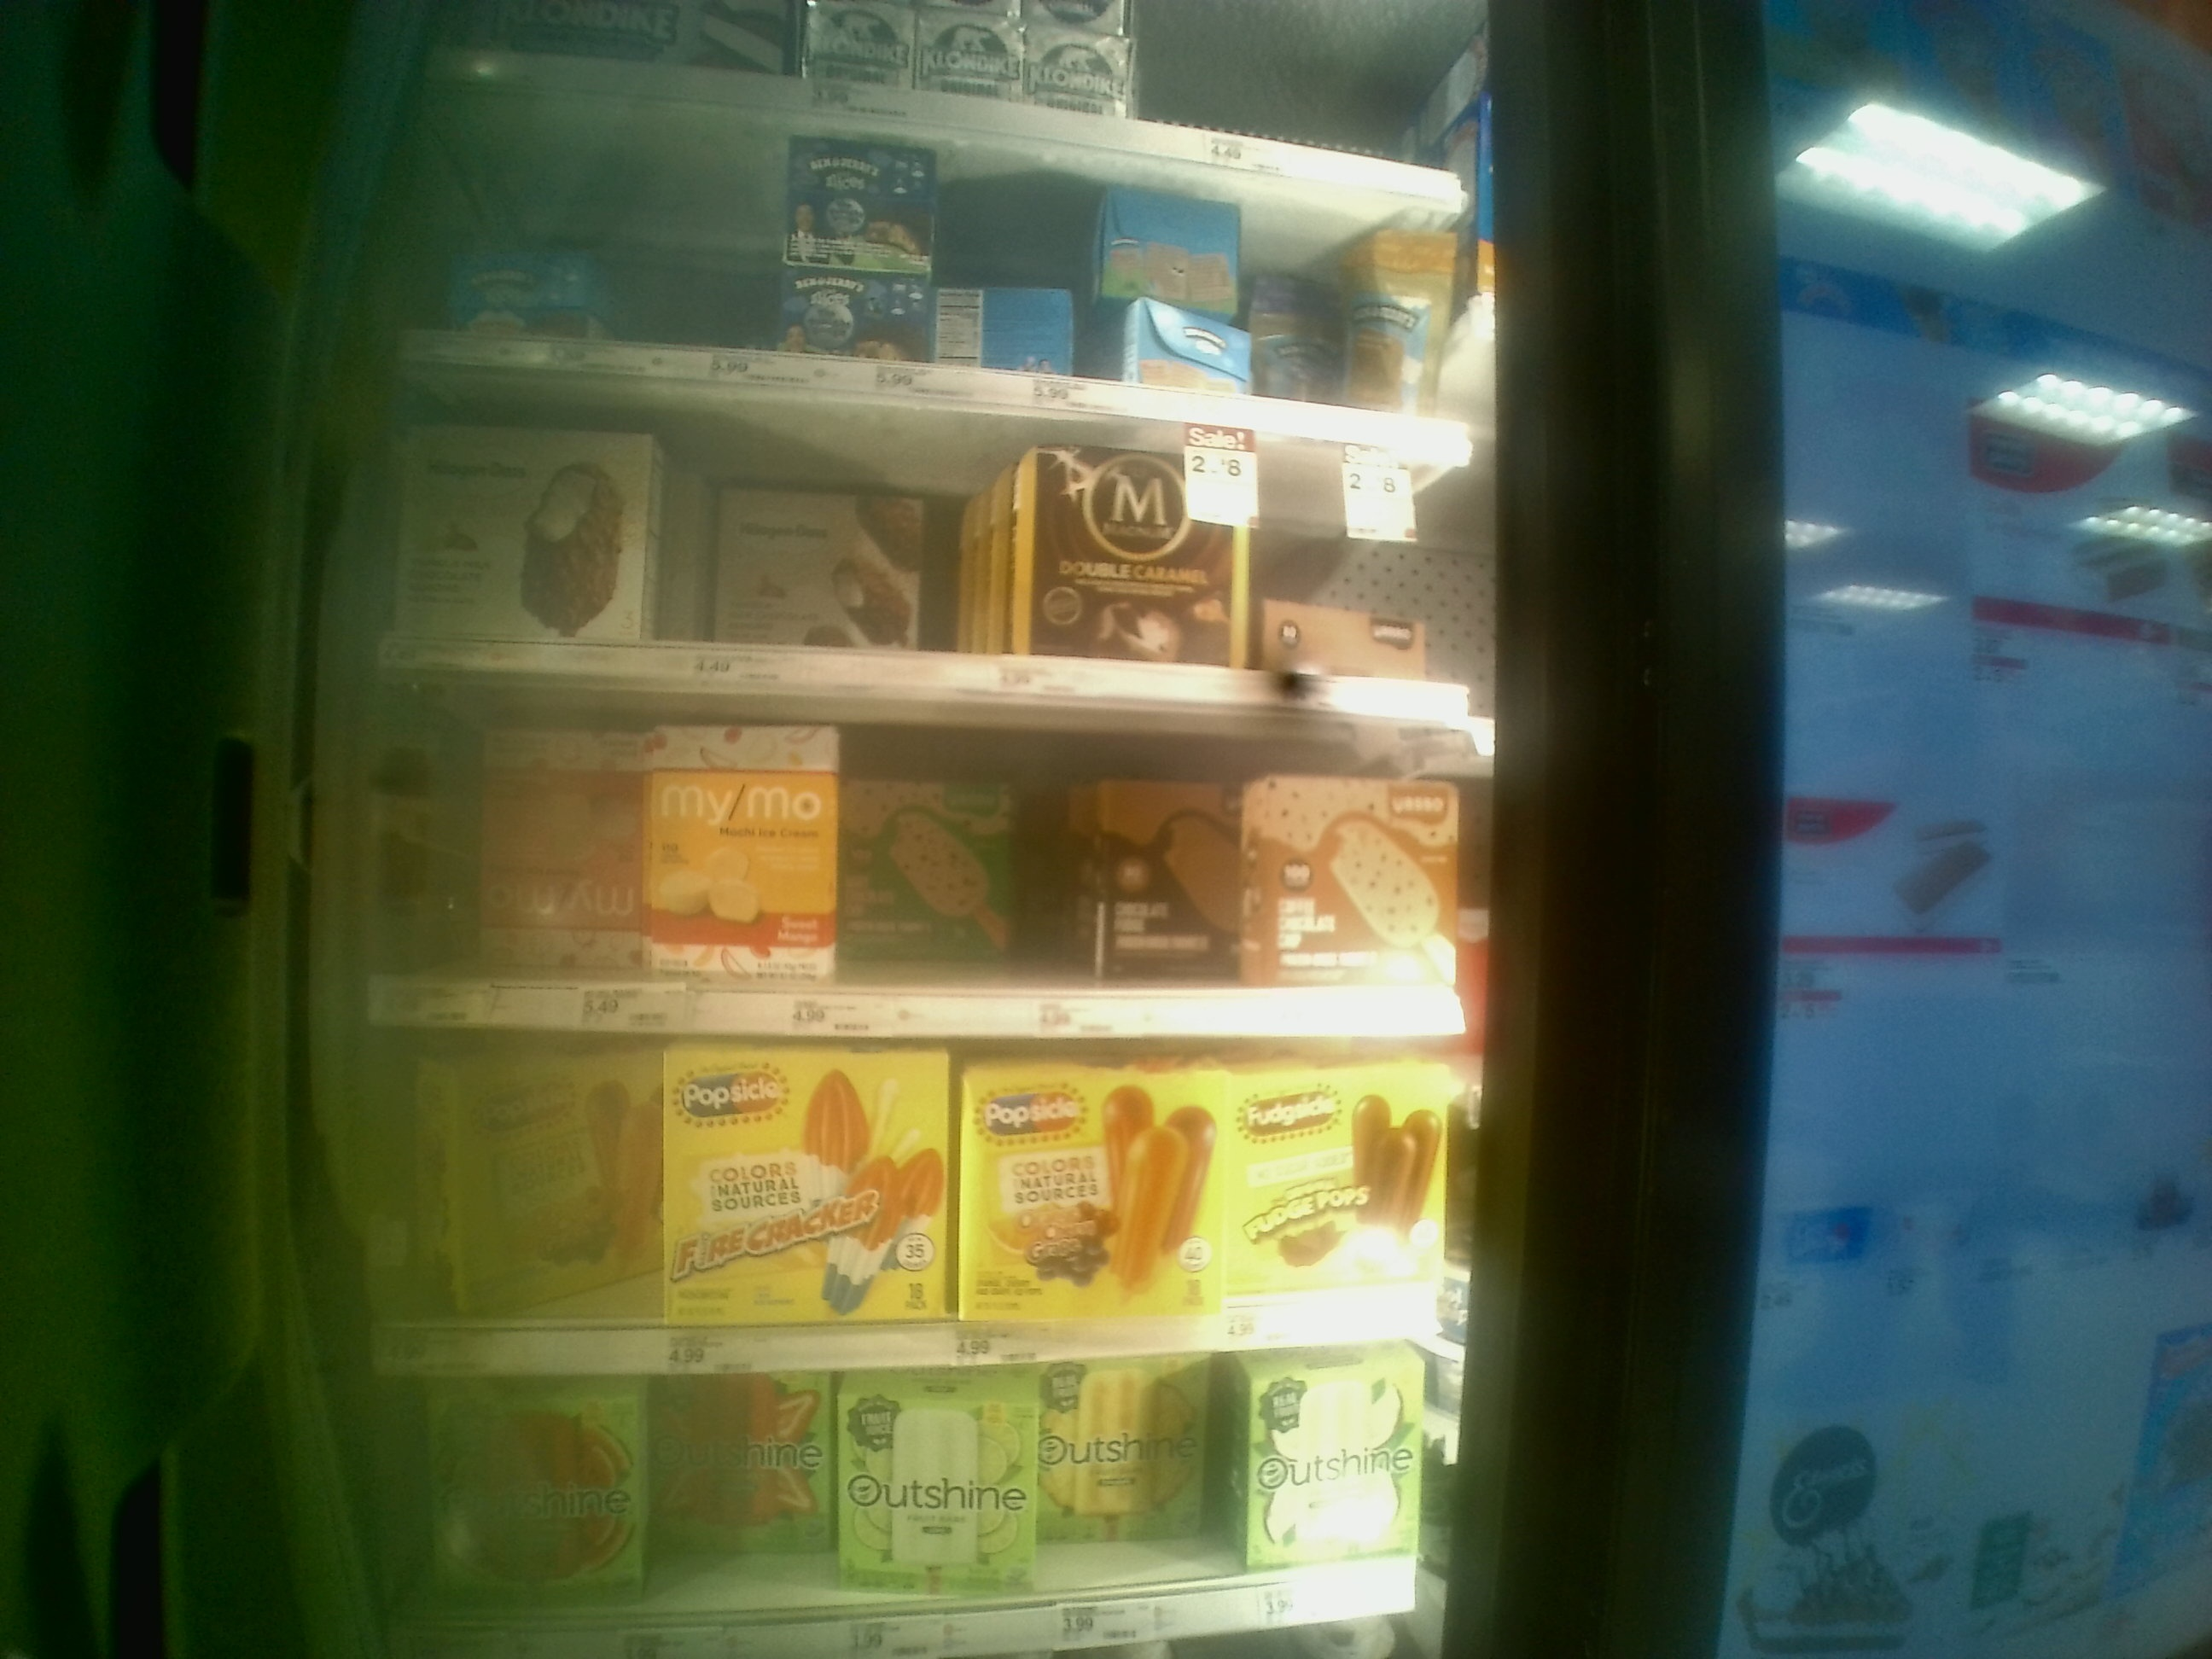ice-cream-shelf: (369, 685, 1465, 1026), (373, 1030, 1444, 1359)
